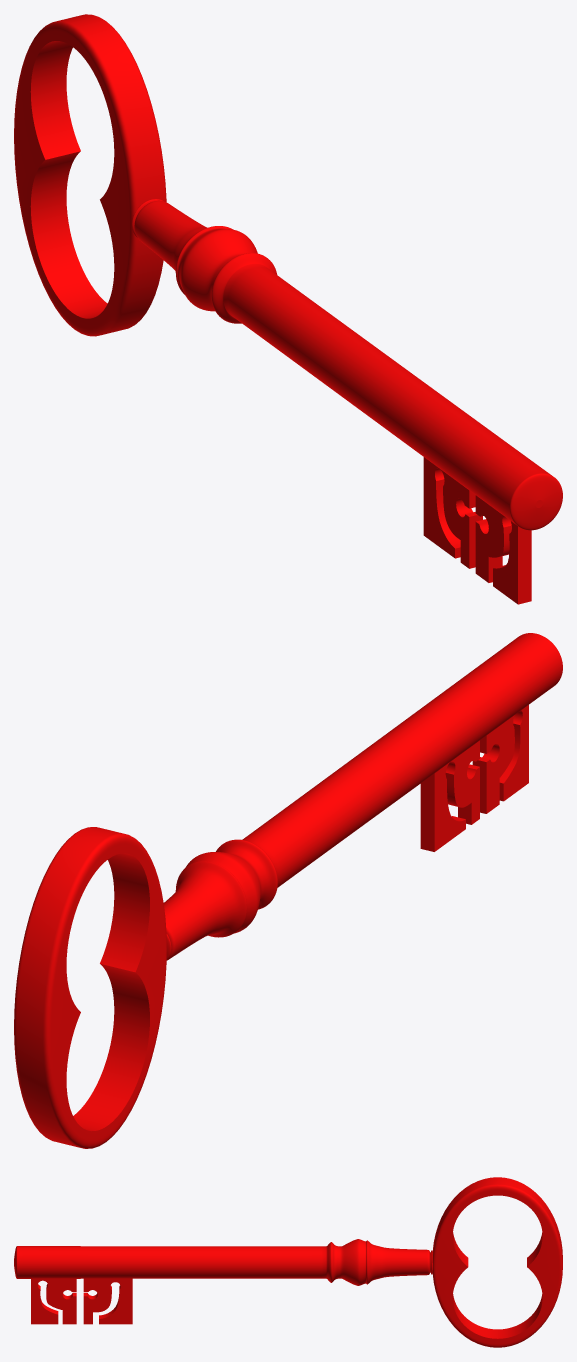
File: redKey.gltf
The picture shows the model from 3 angles, top to bottom: view 1: azimuth 30°, elevation 25°; view 2: azimuth 150°, elevation 25°; view 3: azimuth 270°, elevation 25°; orthographic projection. The views are drawn at different scales.
Visible parts, largest first — view 1: Line001_Material #30_0, Cylinder004_Material #30_0, Box007_Material #30_0; view 2: Cylinder004_Material #30_0, Line001_Material #30_0, Box007_Material #30_0; view 3: Line001_Material #30_0, Cylinder004_Material #30_0, Box007_Material #30_0.
Boxes of the visible parts, x1=… form: Line001_Material #30_0: x1=132, y1=199, x2=562, y2=530; Cylinder004_Material #30_0: x1=14, y1=14, x2=166, y2=336; Box007_Material #30_0: x1=423, y1=457, x2=531, y2=604; Cylinder004_Material #30_0: x1=14, y1=827, x2=166, y2=1148; Line001_Material #30_0: x1=163, y1=633, x2=562, y2=960; Box007_Material #30_0: x1=420, y1=705, x2=528, y2=851; Line001_Material #30_0: x1=14, y1=1239, x2=432, y2=1285; Cylinder004_Material #30_0: x1=432, y1=1177, x2=562, y2=1347; Box007_Material #30_0: x1=31, y1=1278, x2=132, y2=1324.
Size of the model in its own units: 5.49 by 21.07 by 64.24.
